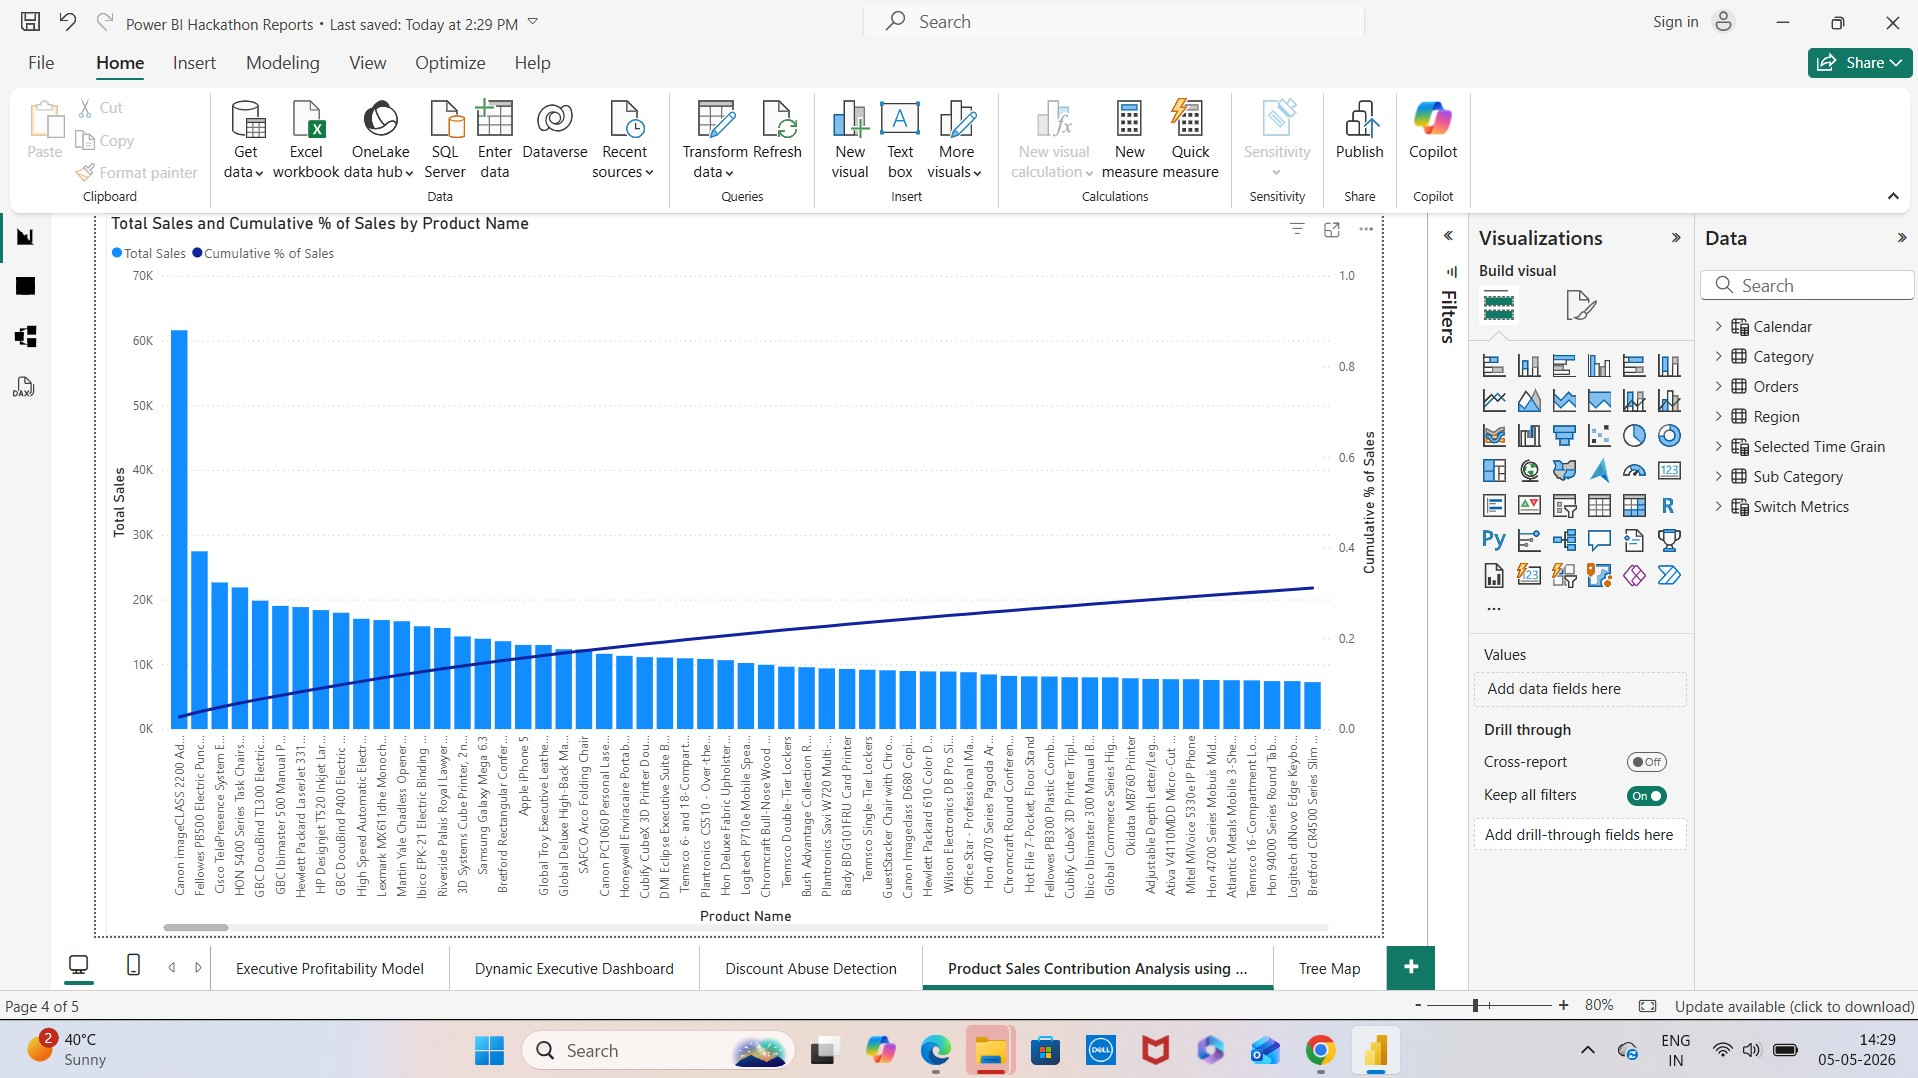

What the dashboard file says about the page in this screenshot:
{"tool":"powerbi","page":{"name":" Product Sales Contribution Analysis using Cumulative Percentage (Pareto Analysis)","canvas":[1280,720],"ordinal":3},"visuals":[{"type":"lineStackedColumnComboChart","fields":{"Category":["Orders.Product Name"],"Y":["Orders.Total_Sales_Click"],"Y2":["Orders.Cumulative % of Sales"]},"box":[10,0,1270.1,720.3],"z":0}]}

Visuals, with their boxes on the page's 1280x720 design canvas (x1, y1, x2, y2). These are canvas units, not pixel positions in the 1918x1078 screenshot, which may show the page scaled, cropped or inside an application window:
lineStackedColumnComboChart - Orders.Product Name x Orders.Total_Sales_Click: Rect(10, 0, 1280, 720)
